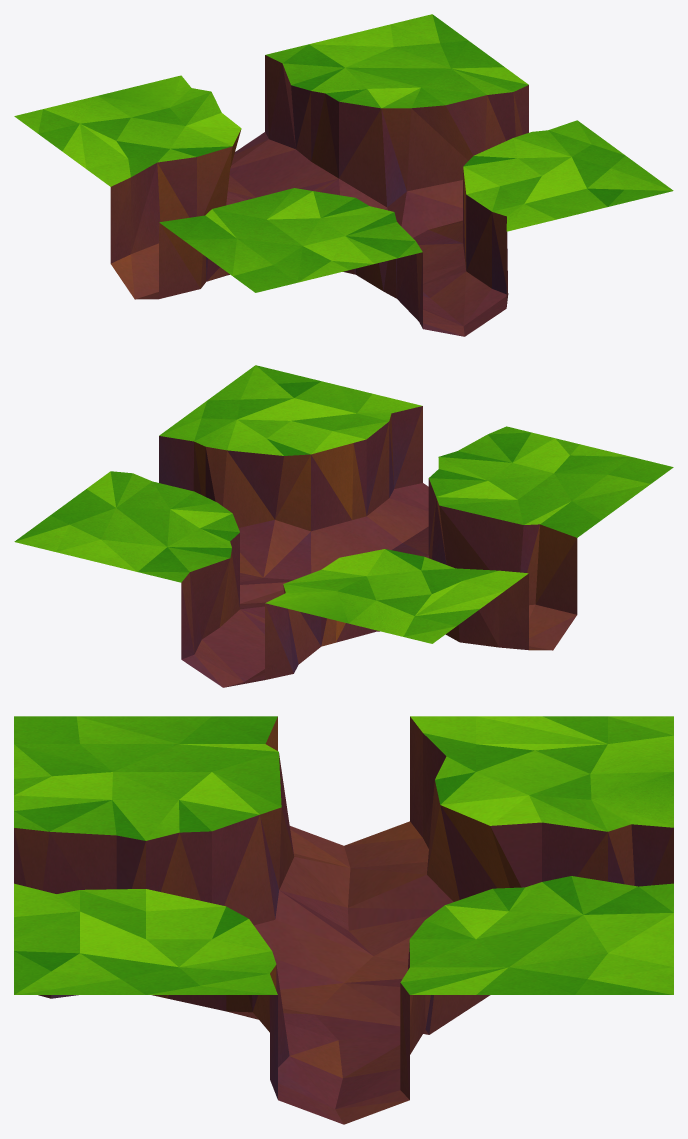
Rendered from Terrain-part-22.fbx.
3 views of the same model, one above another, from view 1: azimuth 30°, elevation 25°; view 2: azimuth 150°, elevation 25°; view 3: azimuth 270°, elevation 25° (orthographic). The views are drawn at different scales.
Visible parts, largest first — view 1: Terrain_part_22; view 2: Terrain_part_22; view 3: Terrain_part_22.
Boxes of the visible parts, x1,y1,x2,y2 form: Terrain_part_22: [14, 14, 673, 336]; Terrain_part_22: [14, 365, 673, 687]; Terrain_part_22: [14, 716, 673, 1124].
Size of the model in its own units: 6 by 1.3 by 6.
